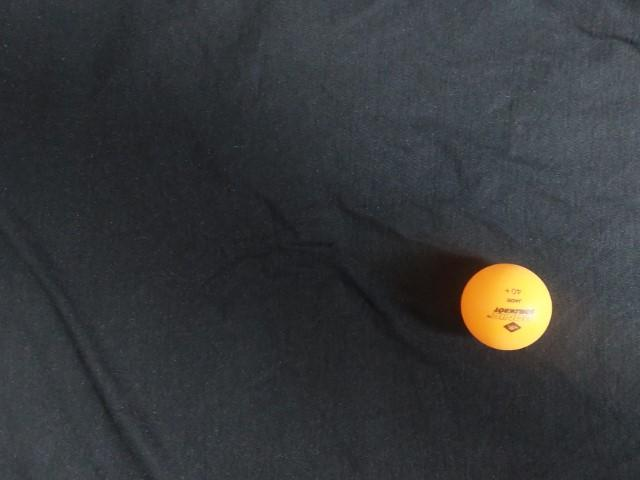oball: (82, 123, 185, 223)
